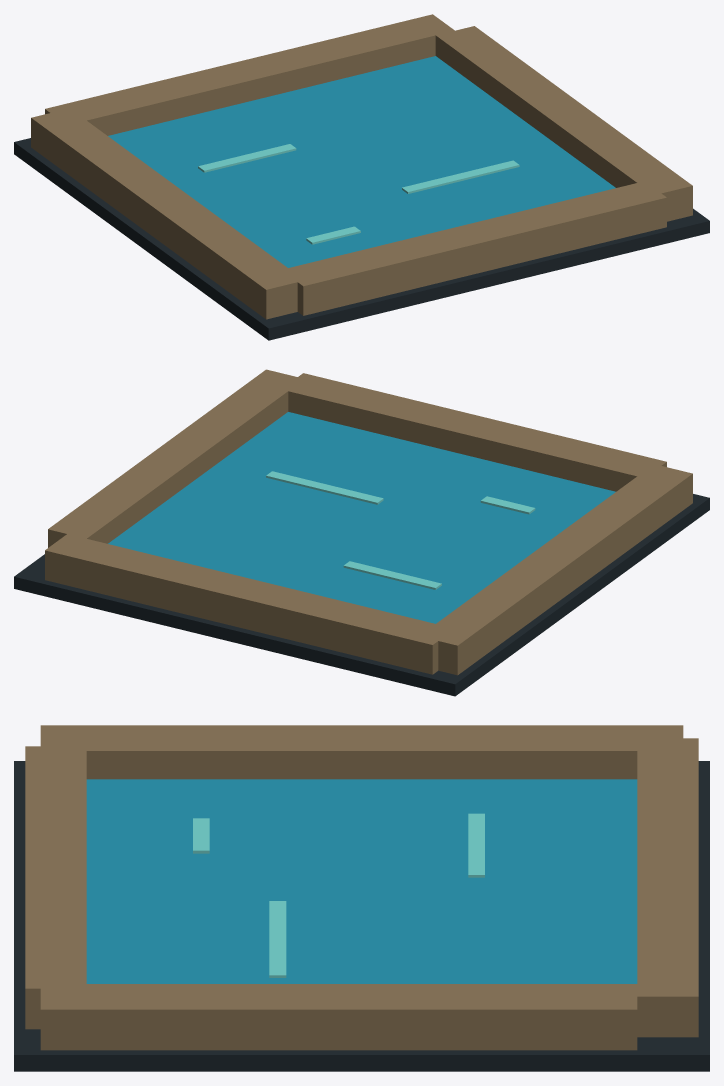
File: base_pond.glb
The picture shows the model from 3 angles, top to bottom: view 1: azimuth 30°, elevation 25°; view 2: azimuth 150°, elevation 25°; view 3: azimuth 270°, elevation 25°; orthographic projection. The views are drawn at different scales.
Parts seen in each view (by area): view 1: water, bank.002, bank, bank.003, bank.001, mud, ripple.001, ripple; view 2: water, bank.003, bank, bank.002, mud, bank.001, ripple.001, ripple; view 3: water, bank.001, bank, mud, bank.003, bank.002, ripple.001, ripple, ripple.002.
Boxes of the visible parts, bbox=[...] form: water: bbox=[108, 56, 615, 267]; bank.002: bbox=[288, 181, 666, 315]; bank: bbox=[31, 108, 304, 319]; bank.003: bbox=[45, 14, 454, 135]; bank.001: bbox=[435, 26, 692, 221]; mud: bbox=[14, 138, 709, 340]; ripple.001: bbox=[402, 160, 519, 193]; ripple: bbox=[198, 144, 296, 172]; water: bbox=[108, 412, 615, 623]; bank.003: bbox=[45, 534, 450, 674]; bank: bbox=[419, 464, 692, 675]; bank.002: bbox=[281, 373, 666, 491]; mud: bbox=[14, 494, 709, 696]; bank.001: bbox=[48, 369, 304, 547]; ripple.001: bbox=[266, 471, 383, 504]; ripple: bbox=[343, 561, 441, 589]; water: bbox=[86, 779, 637, 983]; bank.001: bbox=[40, 984, 637, 1050]; bank: bbox=[40, 725, 683, 779]; mud: bbox=[14, 761, 709, 1071]; bank.003: bbox=[637, 738, 698, 1037]; bank.002: bbox=[25, 746, 86, 1029]; ripple.001: bbox=[269, 901, 286, 977]; ripple: bbox=[468, 813, 484, 877]; ripple.002: bbox=[193, 818, 209, 853].
Size of the model in its own units: 0.91 by 0.0825 by 0.91.
